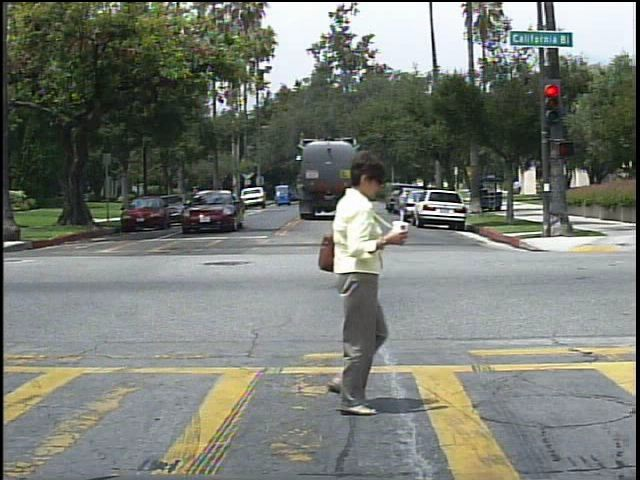person: (286, 150, 406, 422), (515, 180, 528, 199)
